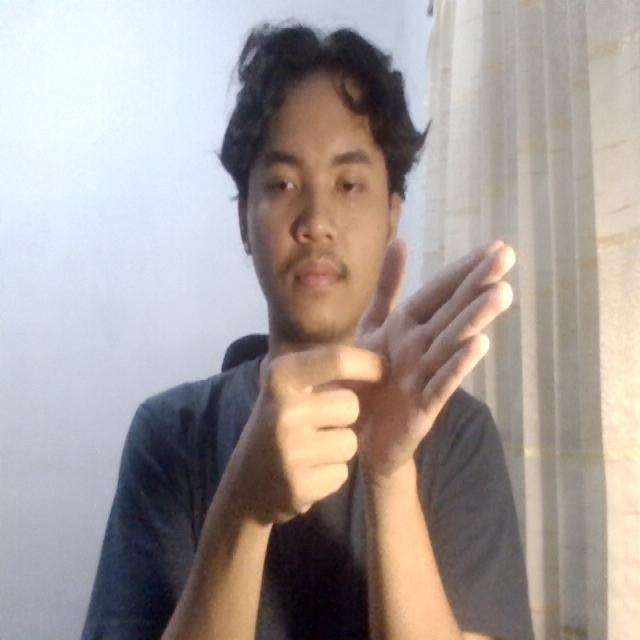L: (228, 215, 534, 537)
